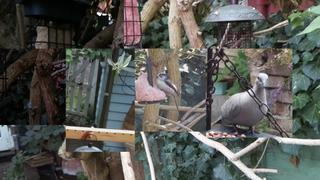collared dove: (211, 73, 268, 135)
long tailed tit: (156, 73, 182, 123)
